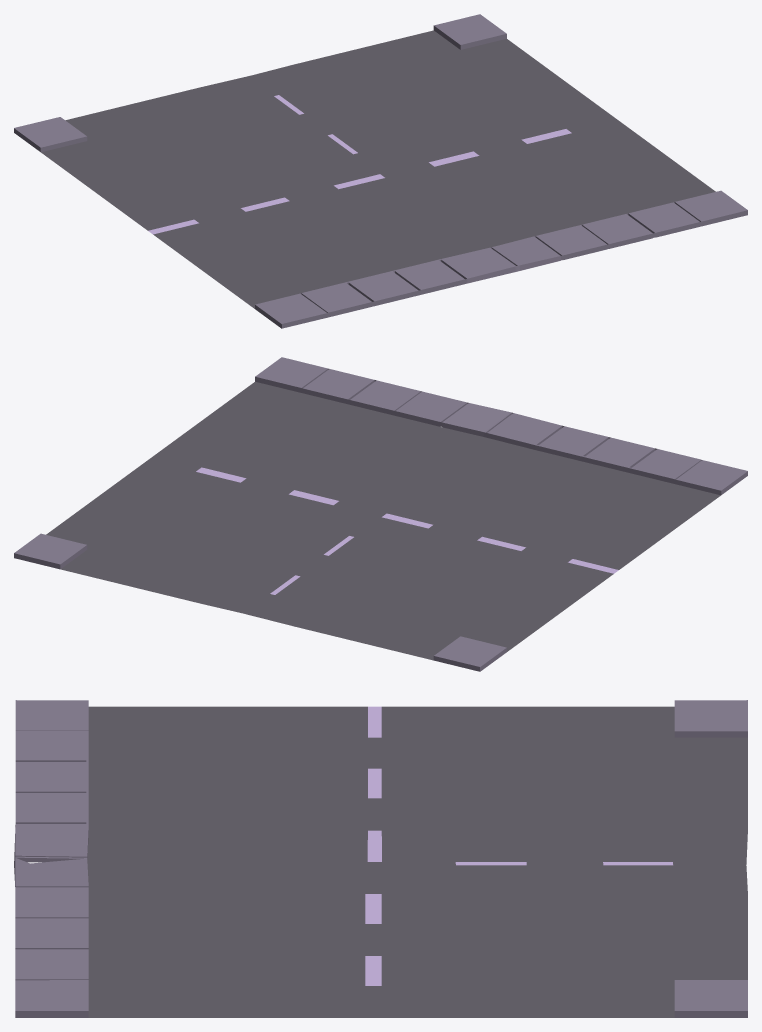
Rendered from Road_Turn_LeftandRight.fbx.
3 views of the same model, one above another, from view 1: azimuth 30°, elevation 25°; view 2: azimuth 150°, elevation 25°; view 3: azimuth 270°, elevation 25° (orthographic). The views are drawn at different scales.
Visible parts, largest first — view 1: Road_Turn_LeftandRight; view 2: Road_Turn_LeftandRight; view 3: Road_Turn_LeftandRight.
Part boxes in pixels (box(x1,y1,x2,y2)): Road_Turn_LeftandRight: box(14, 14, 747, 328); Road_Turn_LeftandRight: box(14, 357, 747, 671); Road_Turn_LeftandRight: box(14, 700, 747, 1017).
Bounding box in the file's own units: 9.4 × 0.1105 × 9.37.
